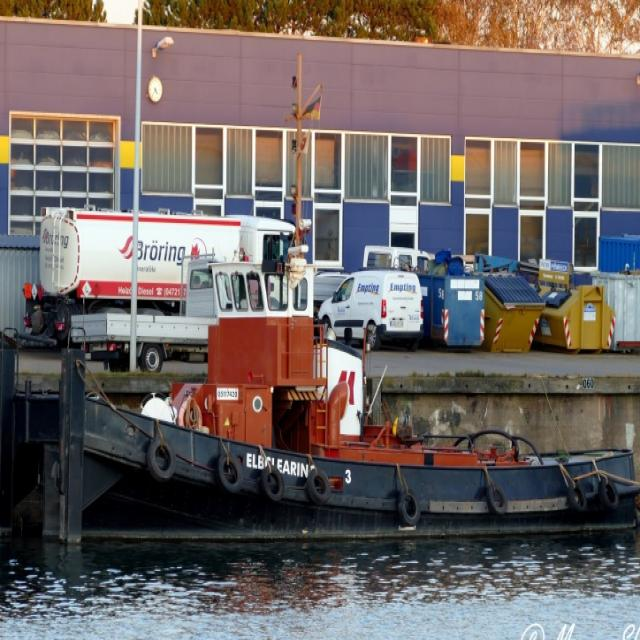tugboat: (1, 231, 640, 585)
